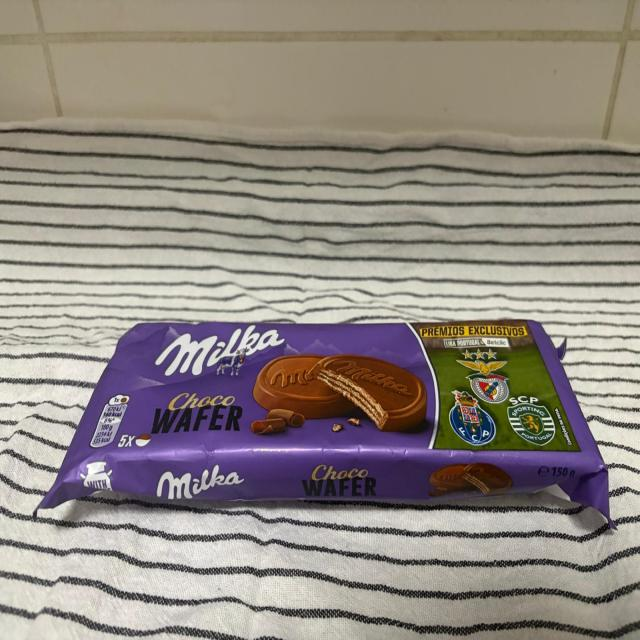good_package: (37, 321, 616, 531)
